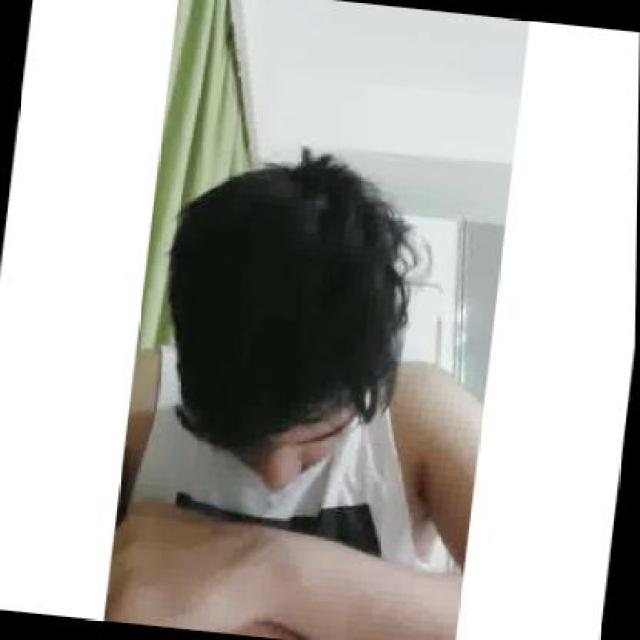inattentif: (146, 140, 385, 502)
